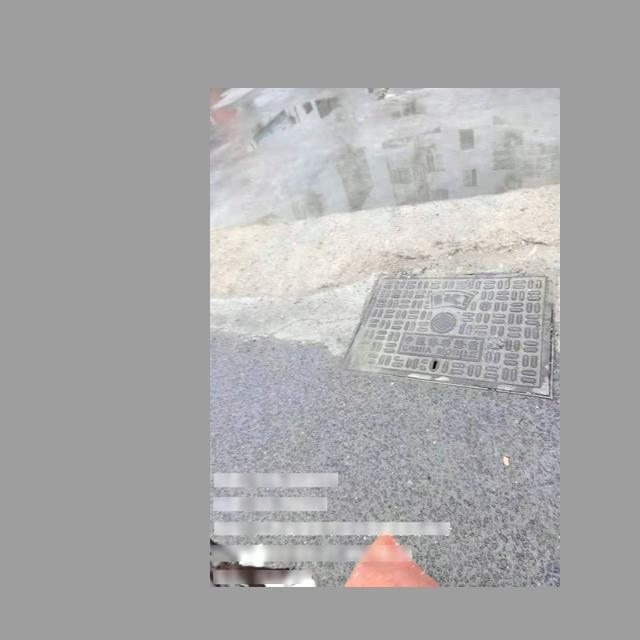good: (338, 273, 553, 402)
